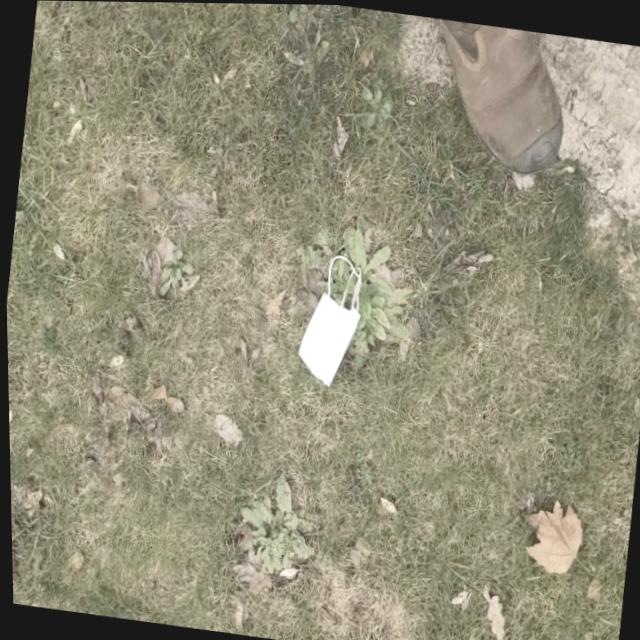Mask: (287, 252, 368, 394)
